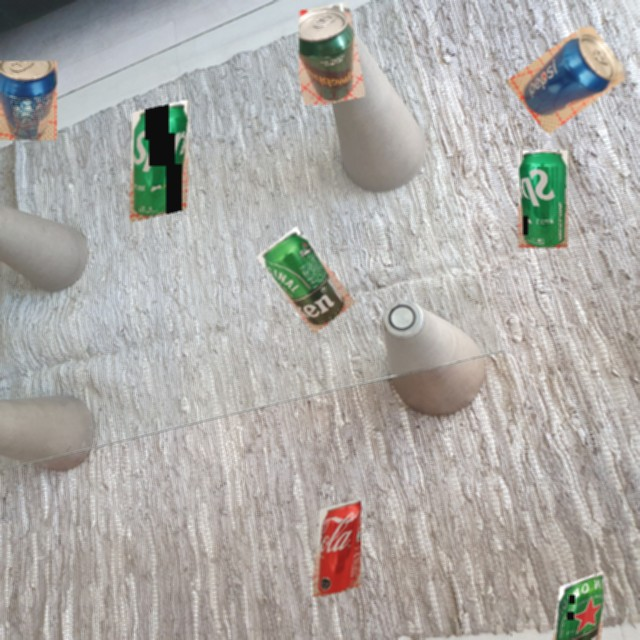coca cola: (313, 500, 361, 597)
heineken: (257, 226, 355, 333), (547, 569, 603, 640)
pepsi: (498, 27, 625, 140), (0, 61, 57, 140)
schweppes: (299, 2, 365, 105)
sprite: (130, 100, 190, 222), (518, 150, 568, 248)
